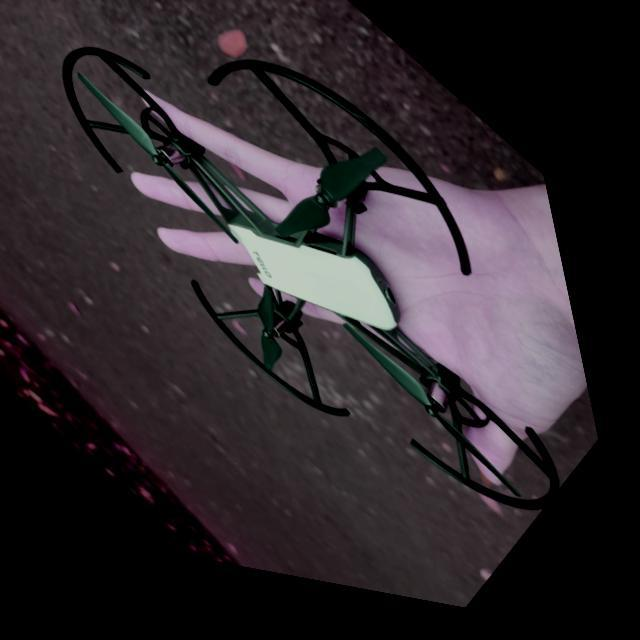drone: (74, 55, 571, 518)
